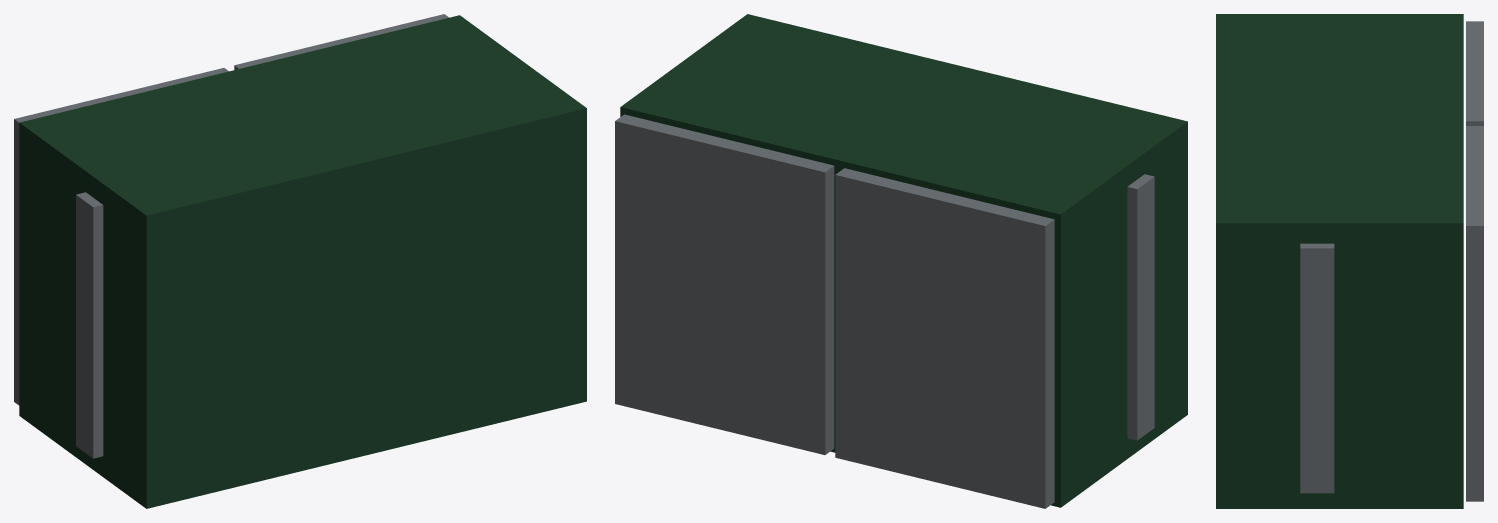
The model's file is dumpster.obj.
3 views of the same model, side by side, from view 1: azimuth 30°, elevation 25°; view 2: azimuth 150°, elevation 25°; view 3: azimuth 270°, elevation 25° (orthographic). The views are drawn at different scales.
Visible parts, largest first — view 1: Dumpster; view 2: Dumpster; view 3: Dumpster.
Boxes of the visible parts, x1,y1,x2,y2 form: Dumpster: (14,14,586,508); Dumpster: (615,14,1187,508); Dumpster: (1216,14,1483,508).
Bounding box in the file's own units: 2.3 × 1.4 × 1.19.
